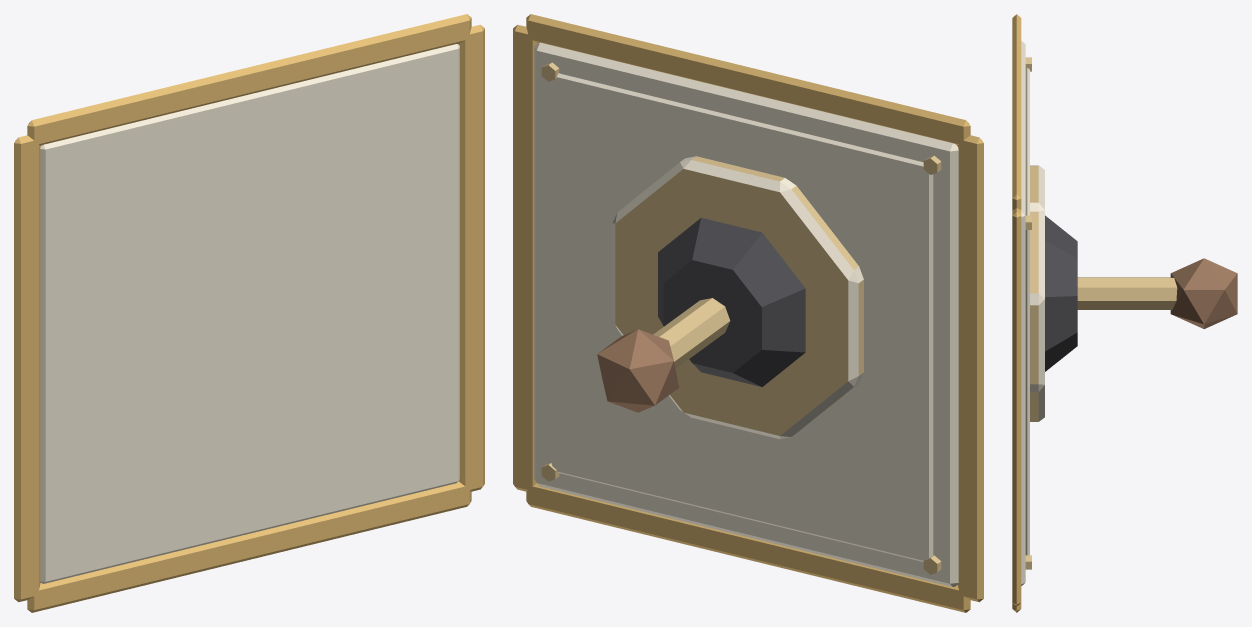
Rendered from Ctl_Joystick.fbx.
The picture shows the model from 3 angles, left to right: view 1: azimuth 30°, elevation 25°; view 2: azimuth 150°, elevation 25°; view 3: azimuth 270°, elevation 25°; orthographic projection. The views are drawn at different scales.
Parts seen in each view (by area): view 1: Ctl_Joystick, Ctl_Joystick_Frame; view 2: Ctl_Joystick, Ctl_Joystick_Frame, Moving.016; view 3: Ctl_Joystick, Moving.016, Ctl_Joystick_Frame.
Boxes of the visible parts, x1,y1,x2,y2 form: Ctl_Joystick: (40,44,459,583); Ctl_Joystick_Frame: (14,14,484,612); Ctl_Joystick: (534,42,958,586); Ctl_Joystick_Frame: (513,14,983,612); Moving.016: (597,298,730,412); Ctl_Joystick: (1021,41,1077,585); Moving.016: (1077,258,1237,328); Ctl_Joystick_Frame: (1012,14,1021,612).
Bounding box in the file's own units: 1.06 × 1.06 × 0.5166.
